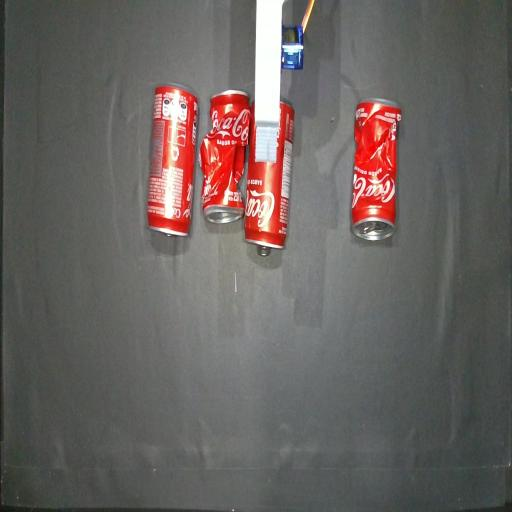lata: (144, 85, 198, 236), (244, 98, 294, 256), (251, 102, 254, 116)
lata_defectuoso: (199, 90, 251, 222), (352, 100, 401, 239)
